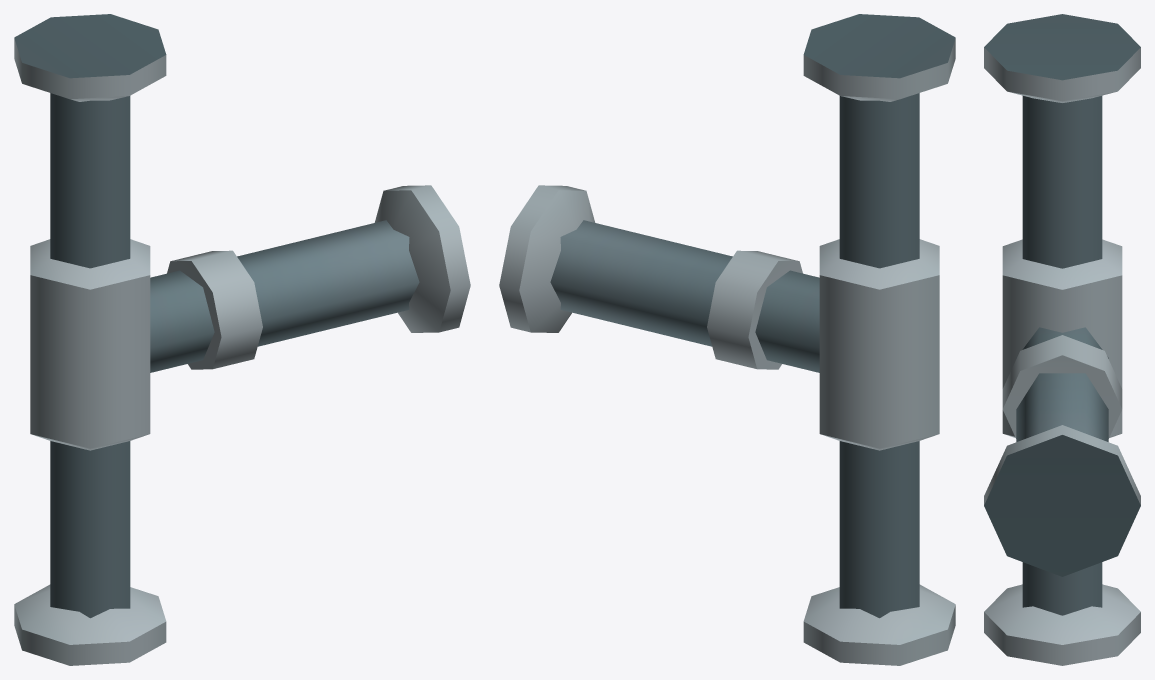
File: Pipe_008.glb
3 views of the same model, side by side, from view 1: azimuth 30°, elevation 25°; view 2: azimuth 150°, elevation 25°; view 3: azimuth 270°, elevation 25° (orthographic).
Visible parts, largest first — view 1: Pipe_008; view 2: Pipe_008; view 3: Pipe_008.
Boxes of the visible parts, box(x1,y1,x2,y2) form: Pipe_008: box(14, 14, 470, 665); Pipe_008: box(499, 14, 955, 665); Pipe_008: box(984, 14, 1140, 665).
Bounding box in the file's own units: 0.765 × 1.05 × 0.255.
1 material, 1 textured.
